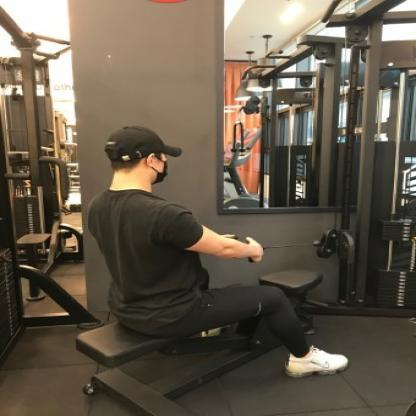Seated Cable Rows: (14, 6, 416, 416)
